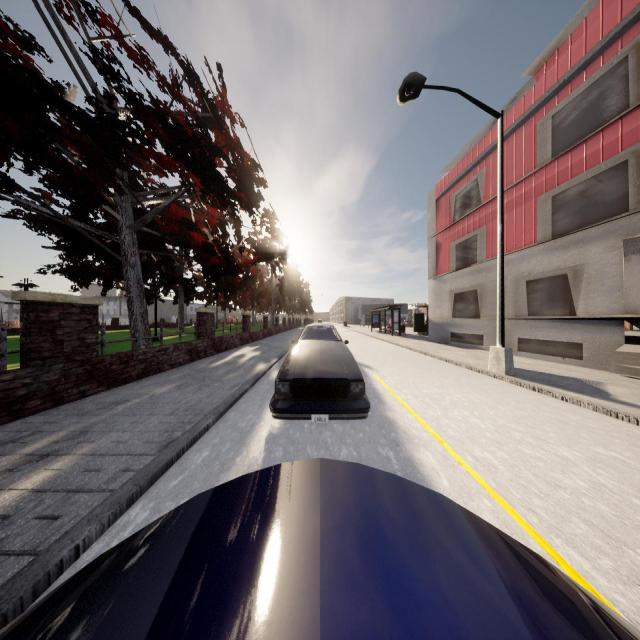Vehicle: (0, 457, 639, 640), (270, 323, 370, 419), (318, 318, 322, 322)
